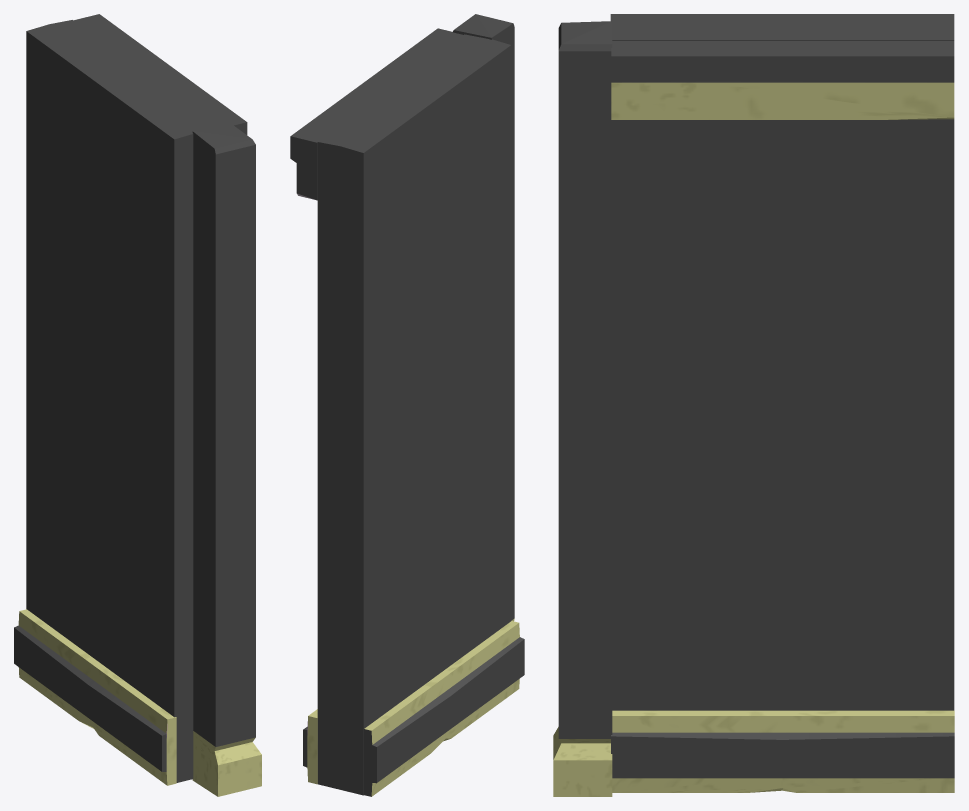
File: Wall_Half_01_Pillar.fbx
3 views of the same model, side by side, from view 1: azimuth 30°, elevation 25°; view 2: azimuth 150°, elevation 25°; view 3: azimuth 270°, elevation 25° (orthographic). The views are drawn at different scales.
Visible parts, largest first — view 1: SM_Bld_Base_Wall_Half_02; view 2: SM_Bld_Base_Wall_Half_02; view 3: SM_Bld_Base_Wall_Half_02.
Part boxes in pixels (<box>): SM_Bld_Base_Wall_Half_02: <box>14,14,261,796</box>; SM_Bld_Base_Wall_Half_02: <box>290,14,524,796</box>; SM_Bld_Base_Wall_Half_02: <box>553,14,954,796</box>.
Size of the model in its own units: 41.92 by 302 by 146.
